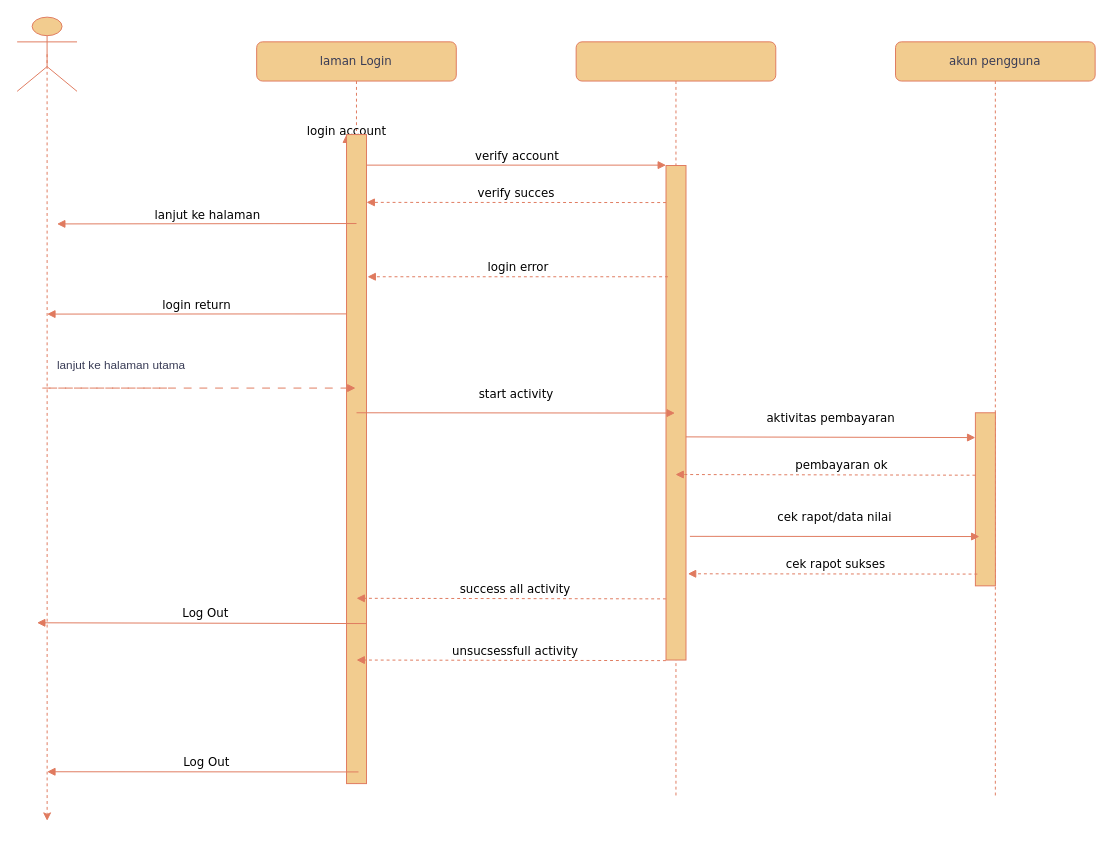
This 1112x846 diagram has some shape labels left out. The shapes that lost their labels are listed below. From the top down, each one's box as (x1, y1, x2, y2) in pixels, then its label:
(16, 16, 77, 91): Actor
(575, 41, 776, 796): web server
